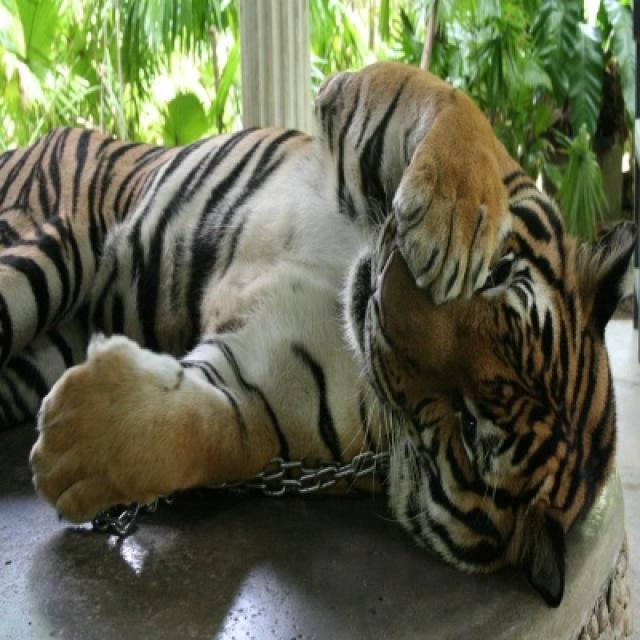Tiger: (0, 64, 638, 609)
